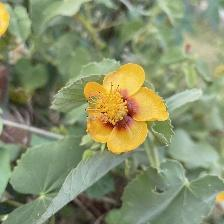indian mallow: (83, 63, 173, 156)
